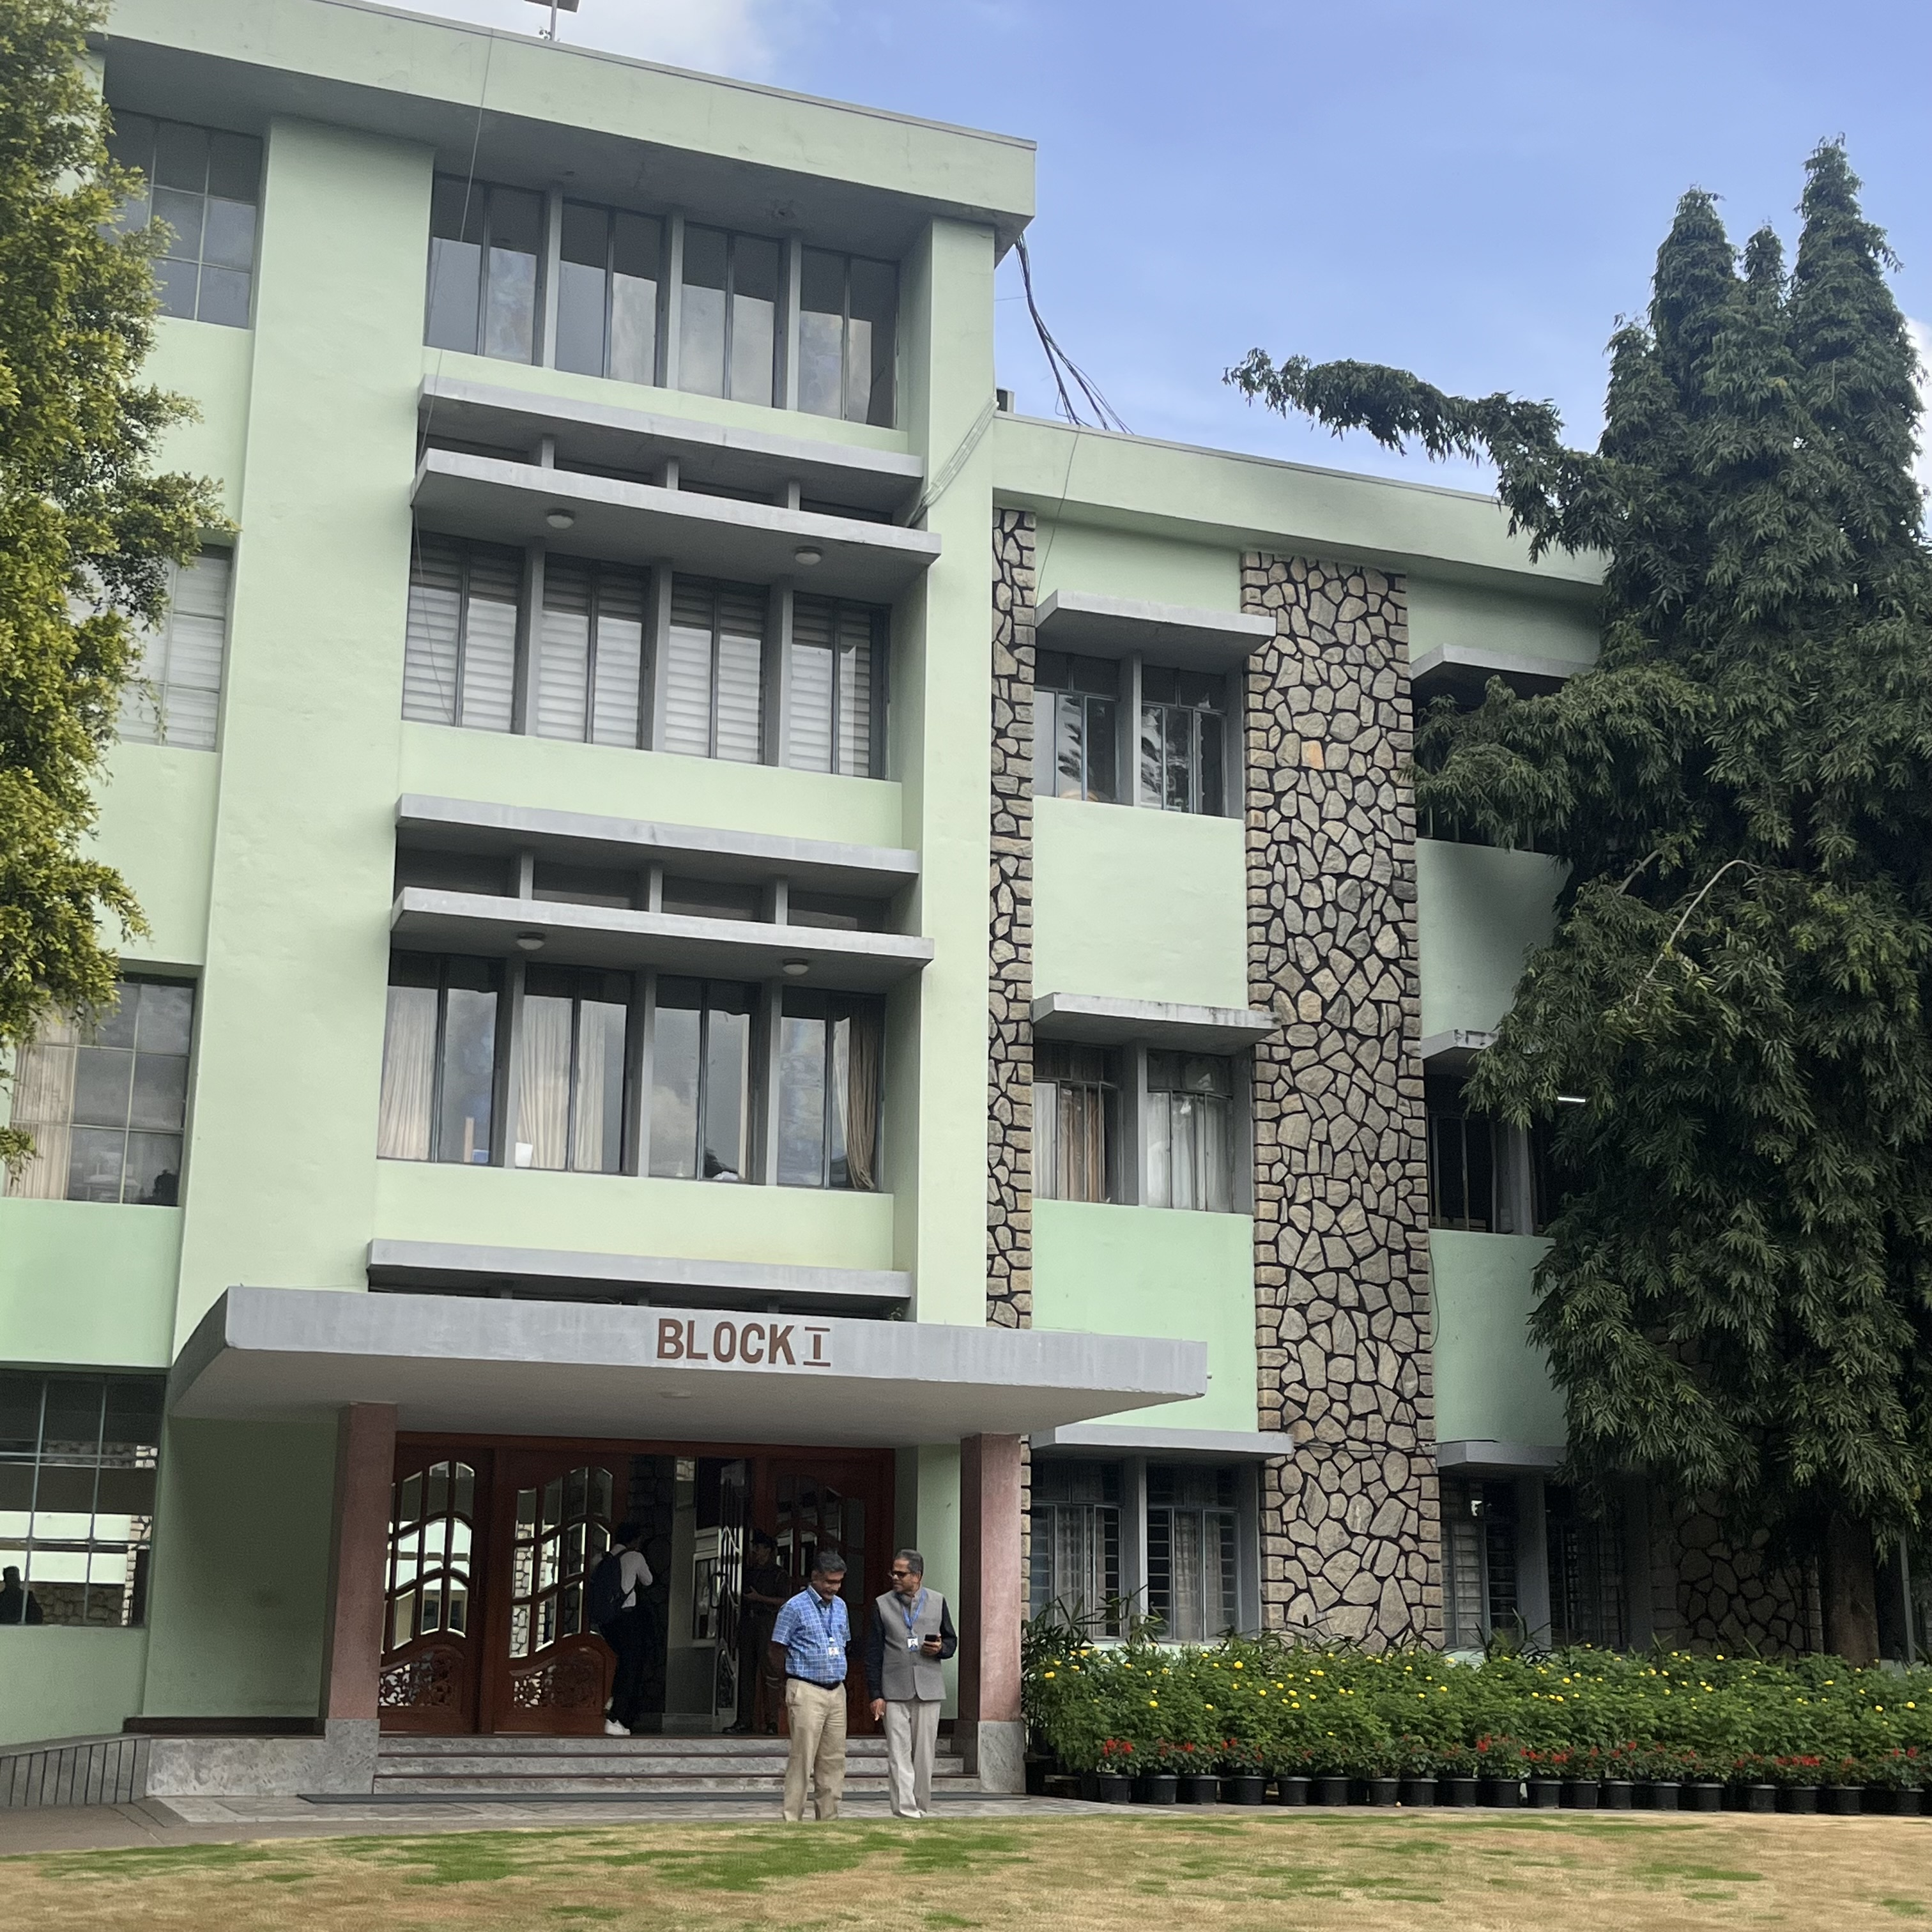Block 1: (129, 19, 1537, 1665)
